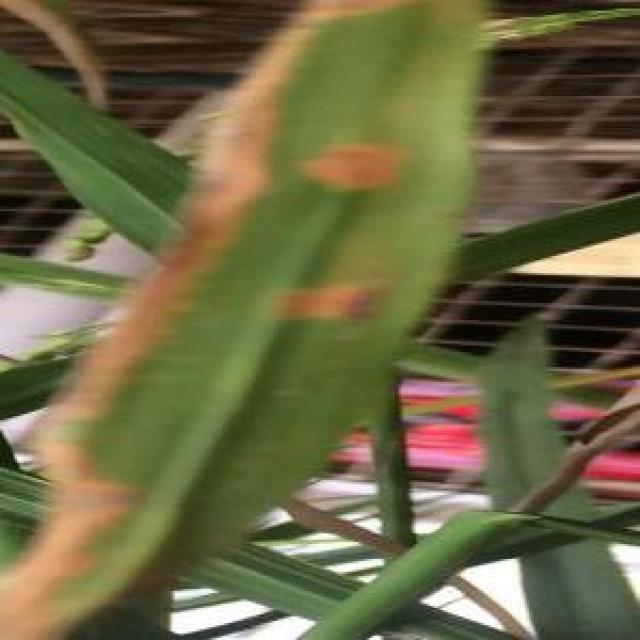Bacterial_Blight: (0, 0, 397, 640), (258, 273, 392, 330), (290, 132, 400, 191)
